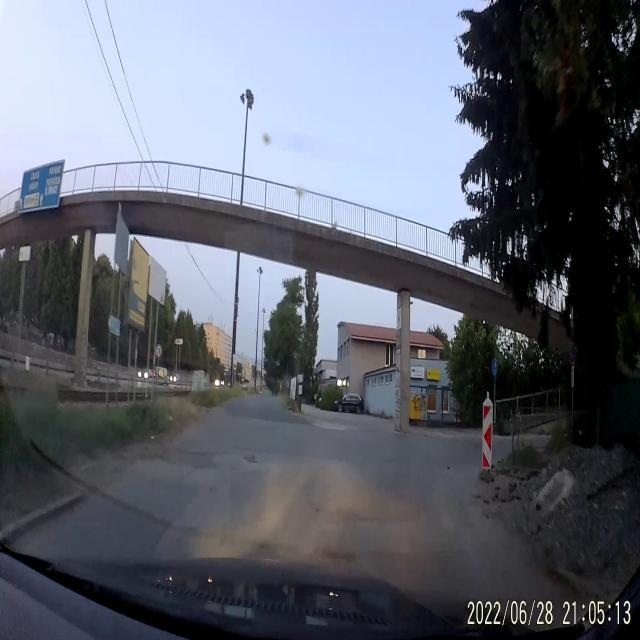Pothole: (187, 448, 220, 475), (238, 445, 264, 471)
